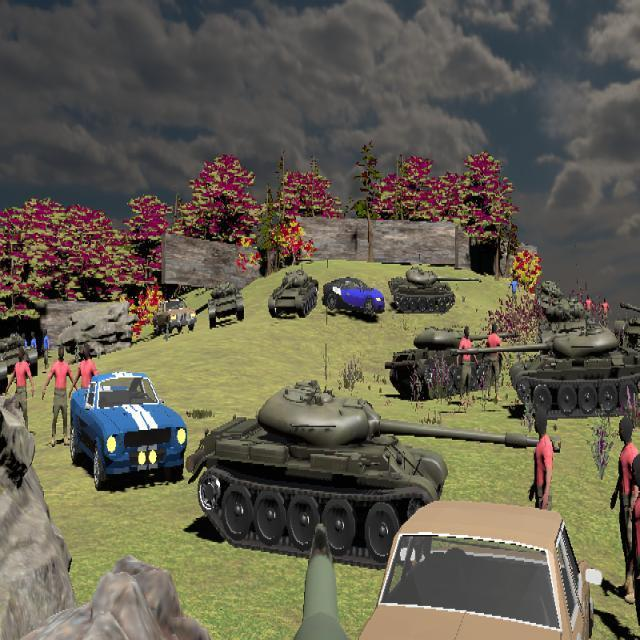Human: (609, 416, 640, 607), (528, 394, 556, 568), (42, 347, 78, 446), (6, 348, 36, 434), (72, 345, 102, 429), (454, 327, 479, 406)
Tank: (188, 382, 557, 568), (462, 326, 640, 419), (385, 326, 518, 401), (387, 267, 482, 314), (268, 268, 319, 320), (0, 331, 36, 390), (208, 280, 245, 328), (618, 301, 640, 357), (619, 302, 640, 352), (621, 304, 640, 353)
car: (333, 500, 604, 640), (70, 371, 188, 490), (322, 276, 385, 317), (152, 297, 197, 334)
